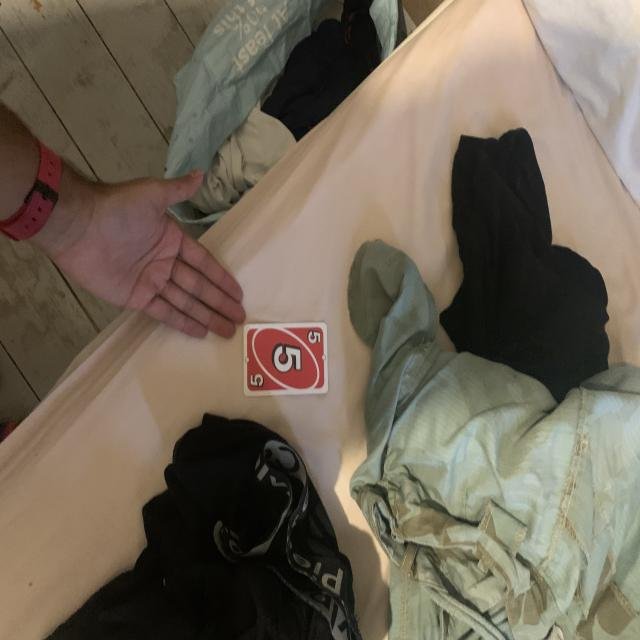lred-5: (304, 328, 323, 347)
